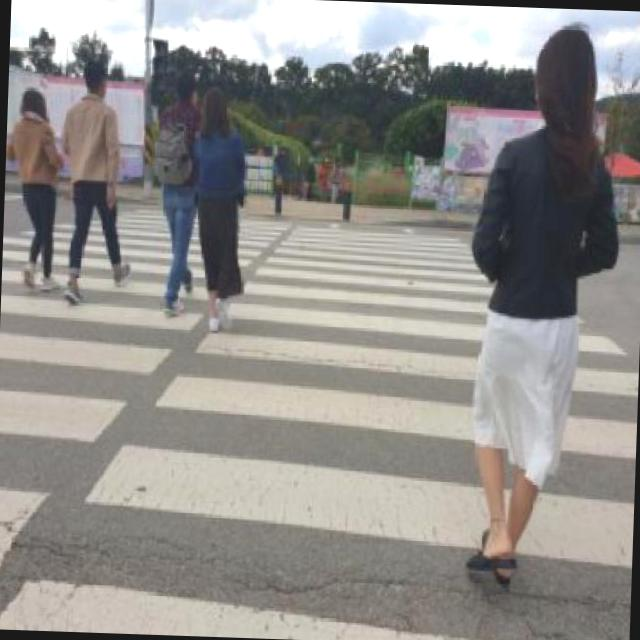Person: (458, 24, 622, 589), (58, 63, 131, 304), (190, 84, 246, 329), (2, 86, 65, 291), (151, 72, 204, 313)
